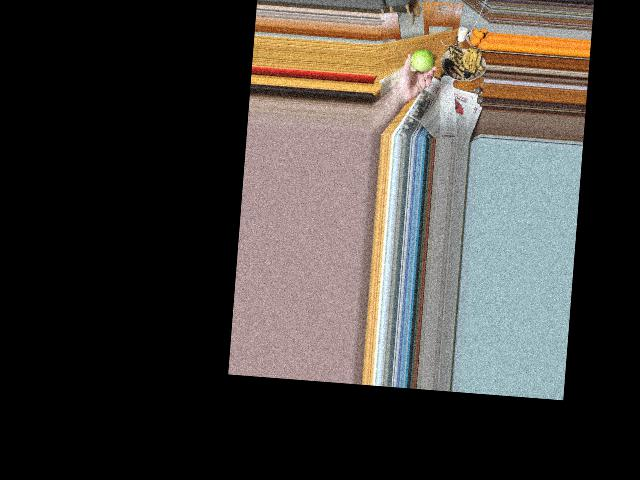apple: (411, 47, 435, 72)
